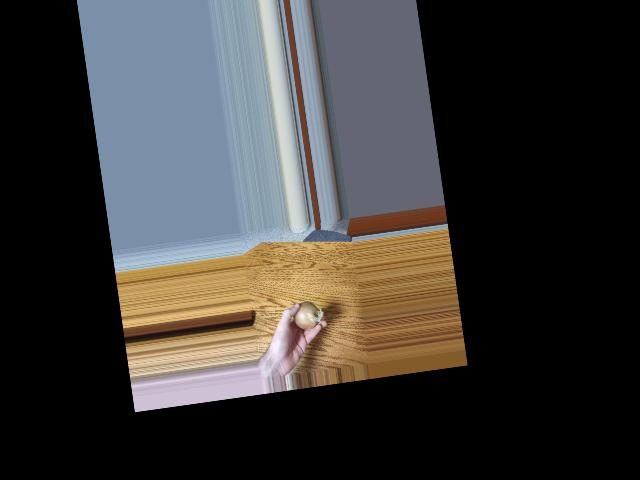onion: (291, 300, 320, 333)
